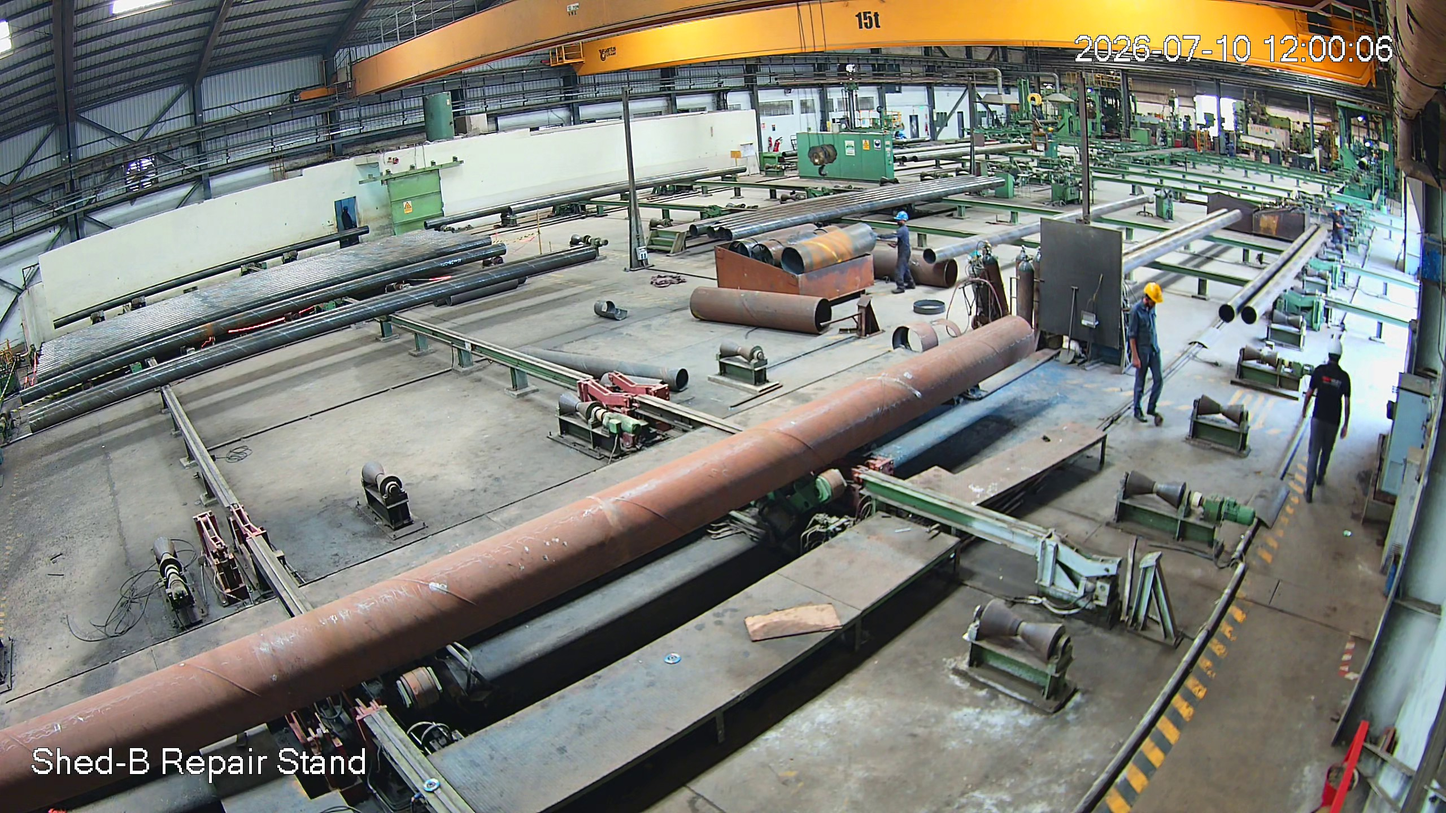Helmet: (1135, 278, 1165, 321), (1321, 337, 1349, 379), (891, 206, 913, 234)
Person: (1300, 339, 1354, 507), (1126, 282, 1169, 433), (887, 208, 918, 301)
